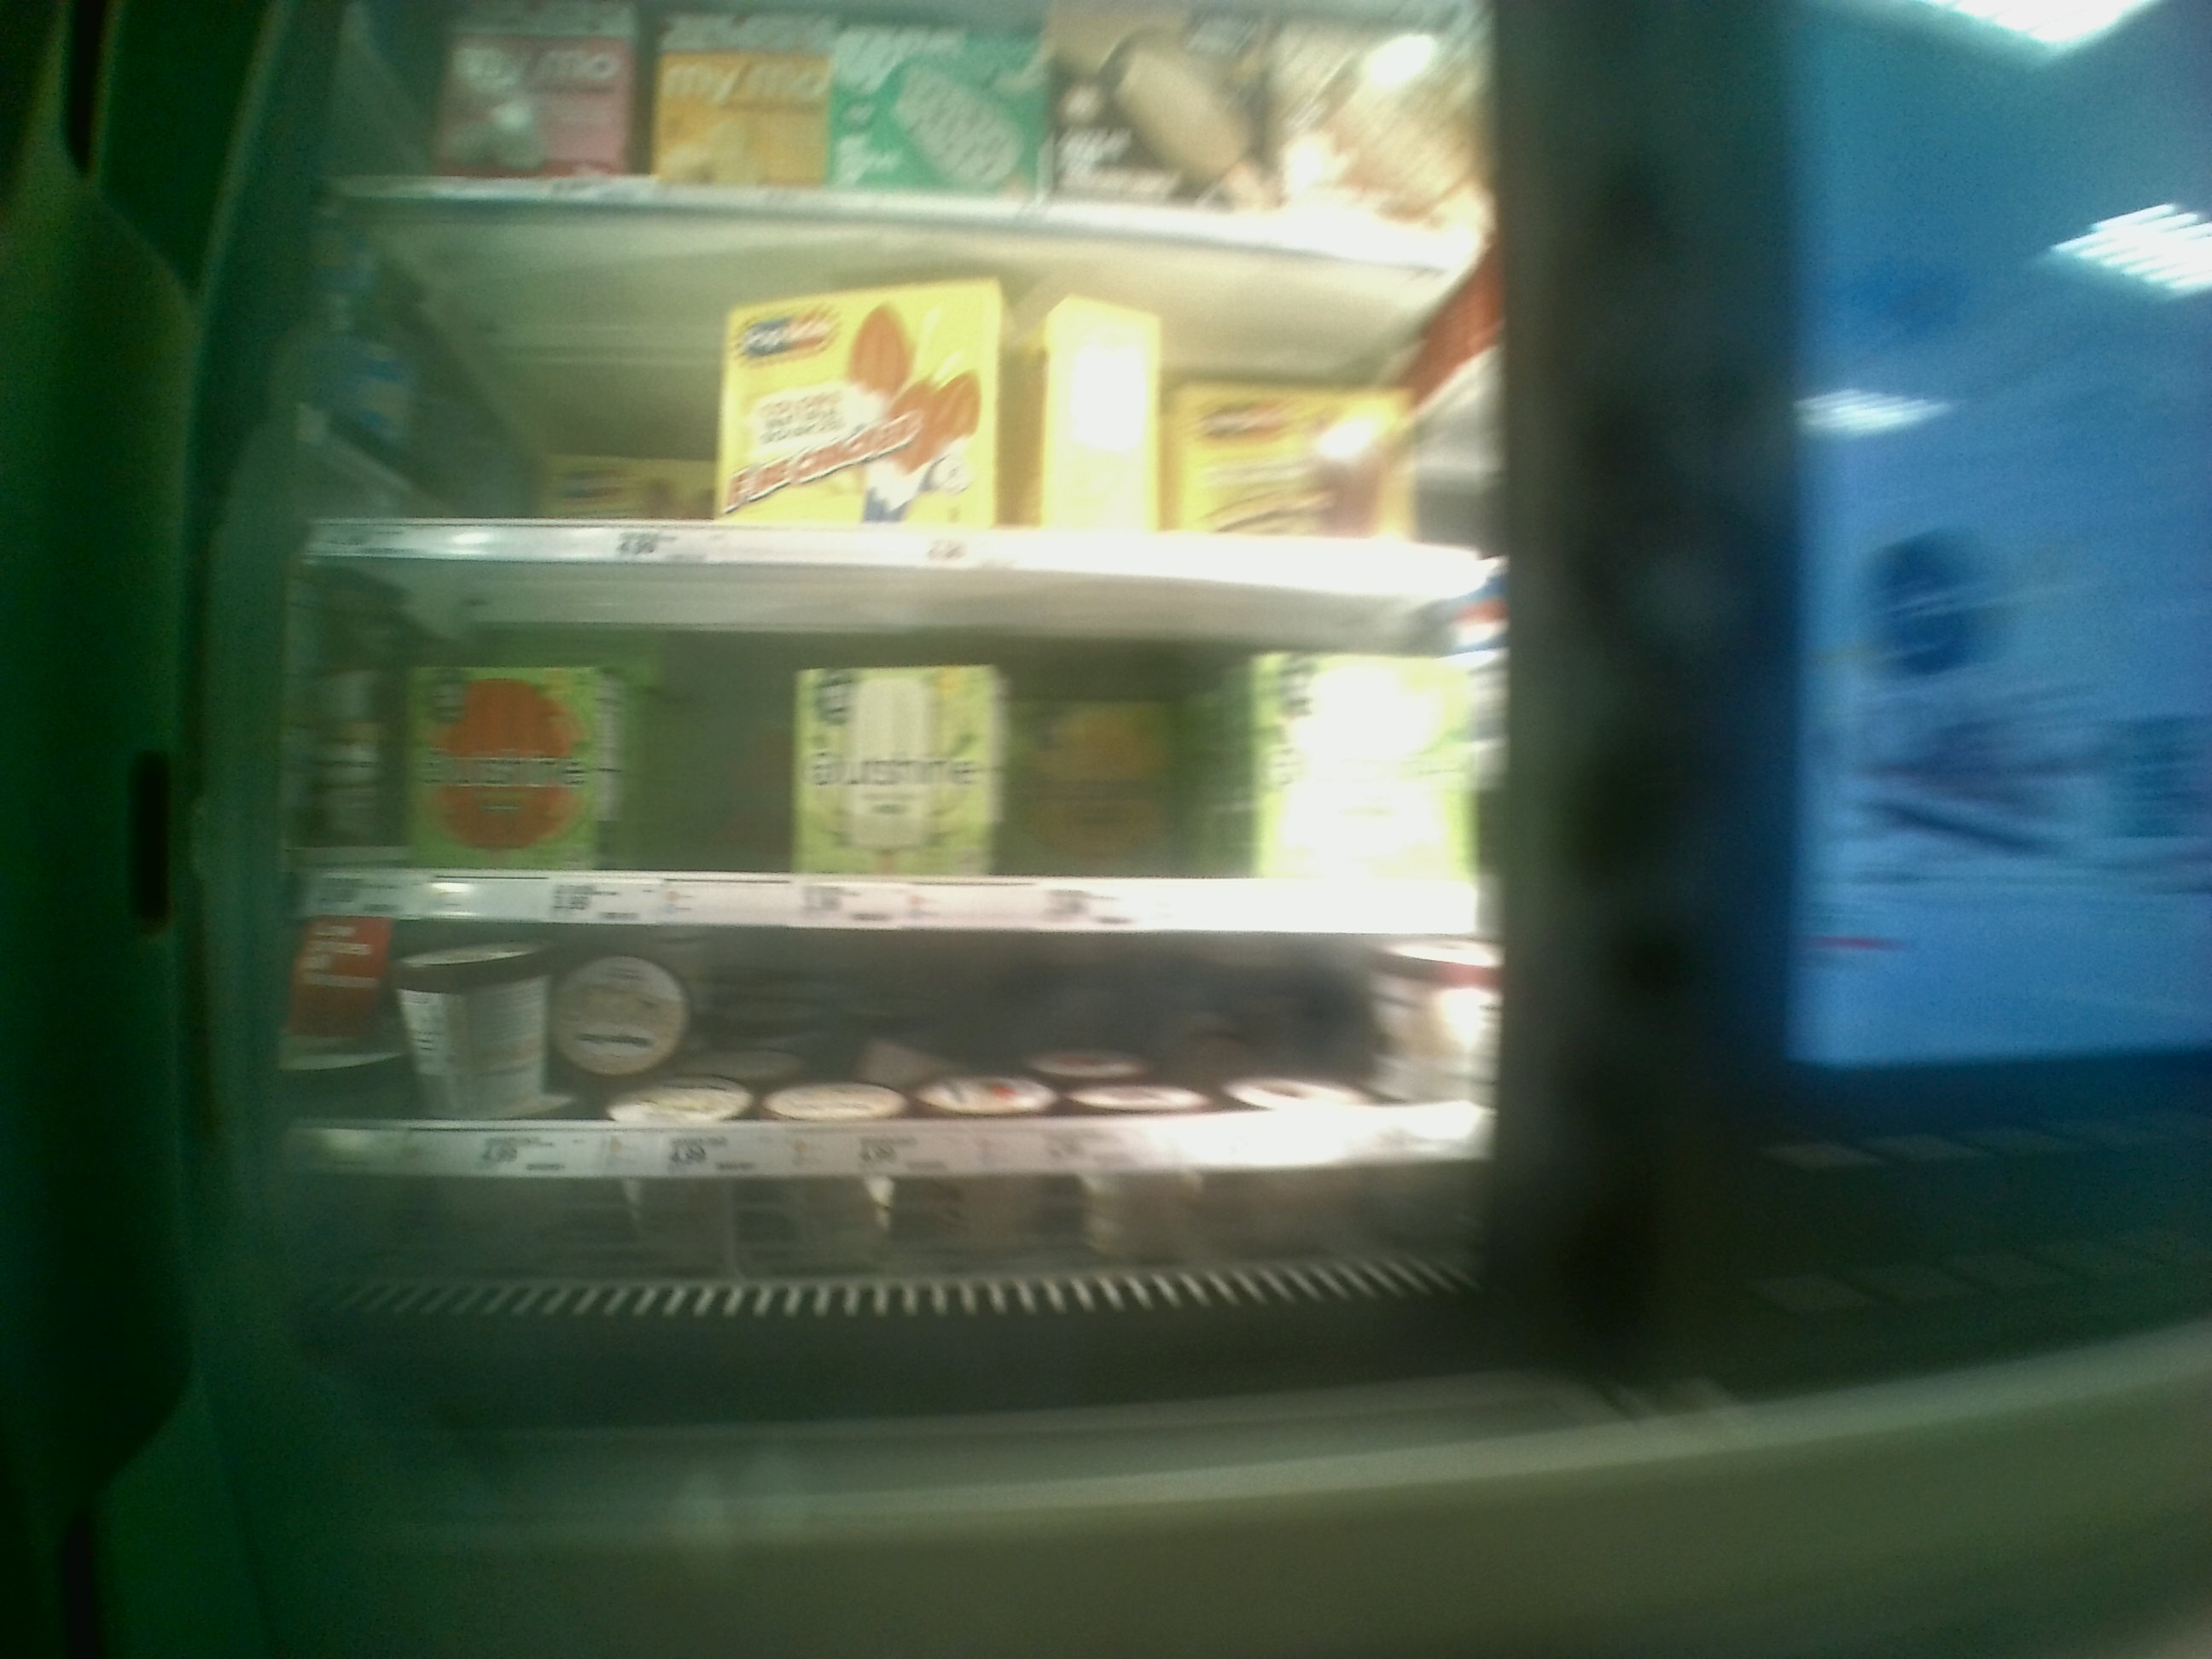ice-cream-shelf: (301, 556, 1486, 924), (298, 917, 1496, 1178)
